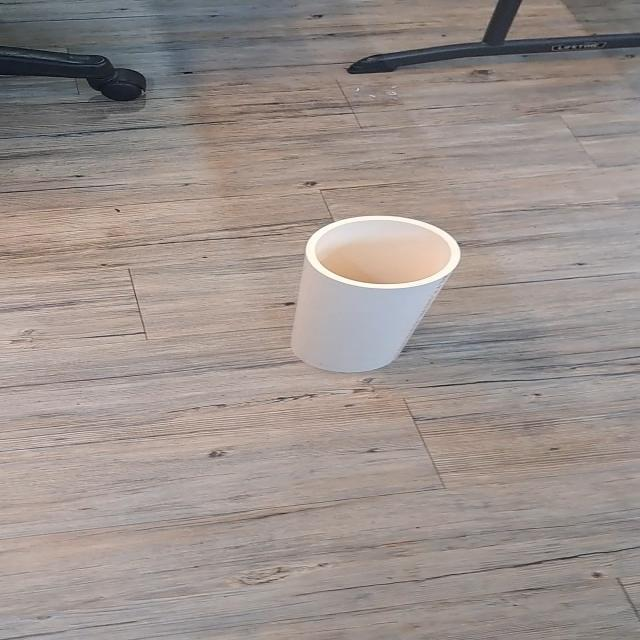CORAL: (267, 205, 473, 396)
